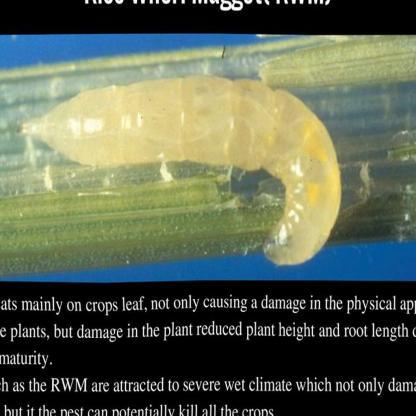whorl-maggot: (13, 72, 348, 270)
